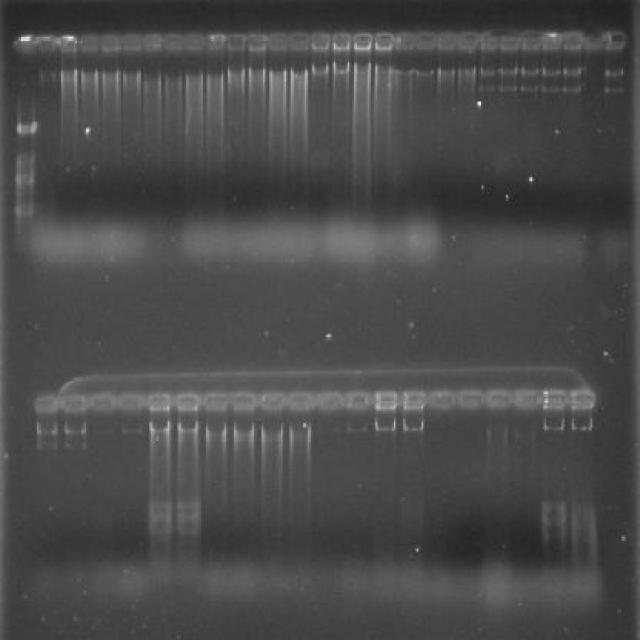B: (538, 500, 568, 514), (570, 500, 596, 516), (145, 528, 173, 542), (540, 516, 568, 530), (570, 516, 598, 530), (569, 530, 600, 542), (176, 499, 202, 512), (539, 530, 567, 542), (496, 79, 518, 93), (560, 82, 582, 95), (147, 501, 173, 512), (176, 526, 201, 537), (63, 440, 88, 451), (540, 81, 560, 94), (519, 81, 539, 94), (147, 514, 173, 524), (602, 84, 624, 95), (176, 513, 202, 522), (477, 81, 497, 92), (36, 442, 58, 451)
L: (9, 29, 632, 60), (31, 386, 600, 417)
M: (10, 31, 39, 236)
P: (15, 119, 40, 136), (12, 200, 37, 217), (14, 168, 37, 186), (14, 152, 37, 168)
Pc: (315, 388, 343, 416), (542, 386, 568, 414), (570, 386, 596, 414), (430, 388, 456, 414), (513, 386, 539, 412), (288, 390, 312, 418), (460, 388, 485, 414), (260, 390, 285, 415), (62, 390, 86, 416), (374, 388, 398, 414), (402, 388, 427, 412), (232, 390, 255, 416), (602, 30, 628, 52), (92, 390, 114, 416), (346, 388, 368, 414), (487, 388, 510, 412), (414, 31, 437, 54), (147, 390, 170, 413), (562, 30, 586, 52), (118, 392, 142, 414), (204, 32, 227, 54), (330, 30, 352, 53), (268, 31, 290, 54), (34, 393, 57, 415), (204, 393, 227, 415), (394, 30, 414, 55), (13, 32, 32, 58), (540, 30, 562, 52), (373, 32, 395, 54), (352, 32, 374, 54), (176, 392, 198, 414), (121, 32, 142, 54), (163, 32, 184, 54), (456, 31, 478, 52), (436, 31, 458, 52), (58, 32, 78, 54), (79, 33, 99, 55), (100, 32, 120, 54), (500, 32, 520, 54), (479, 32, 499, 54), (310, 32, 332, 52), (289, 32, 309, 54), (185, 30, 204, 53), (36, 32, 55, 54), (227, 32, 246, 54), (248, 30, 267, 52), (143, 32, 162, 52), (522, 31, 540, 52), (584, 32, 602, 52)
